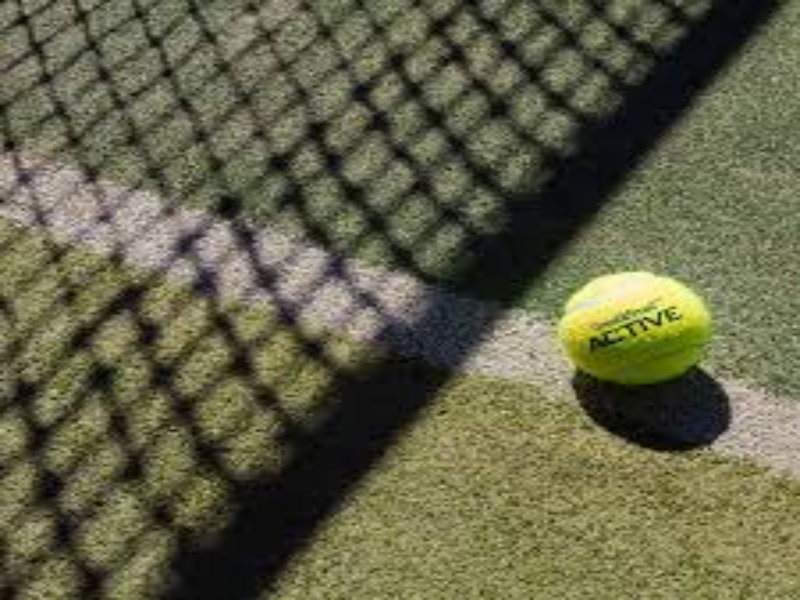tennis ball: (554, 261, 725, 388)
